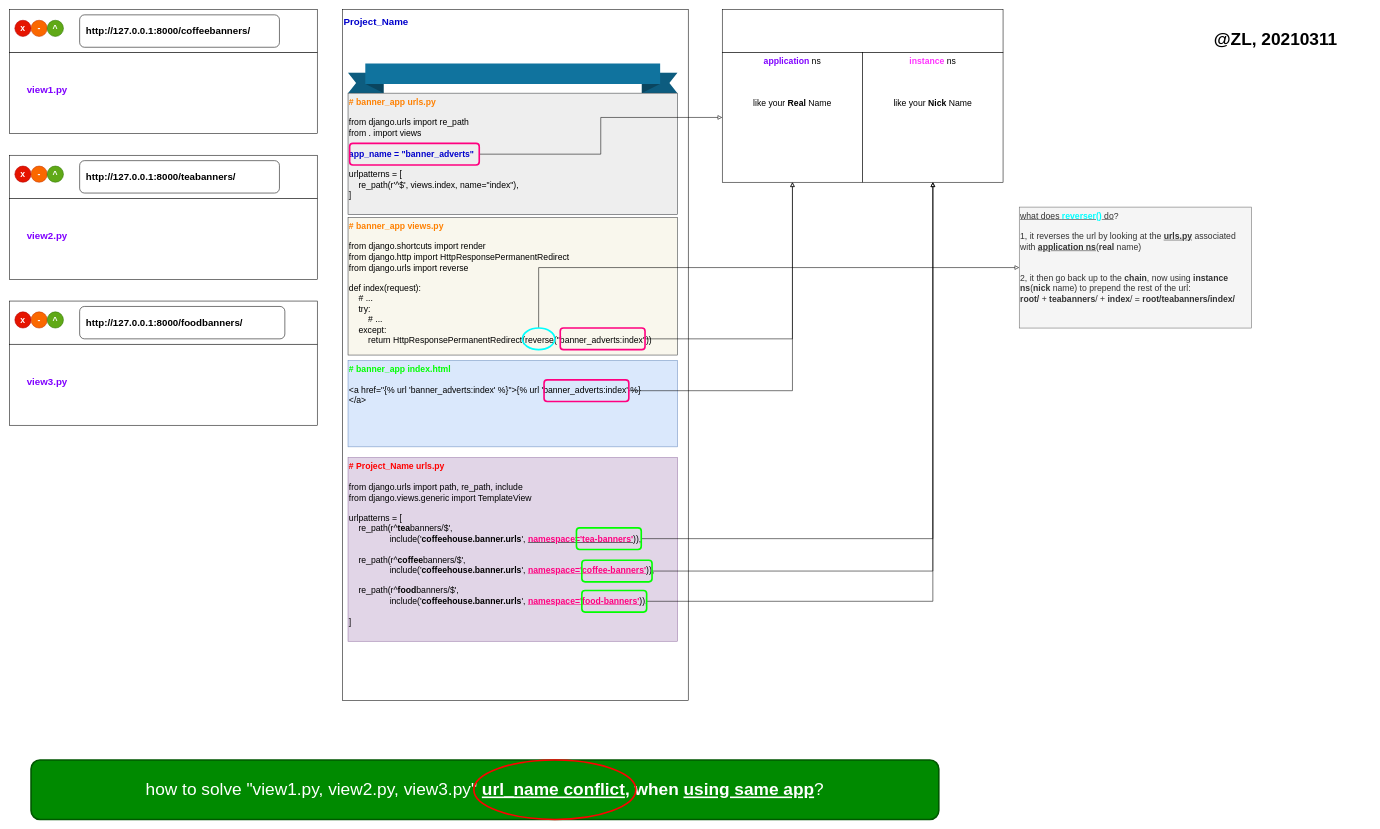
This 1380x829 diagram has some shape labels left out. Each missing label, with the centre of its shape:
banner app: [512,78]
django, application namespace vs instance namespace: [862,31]
